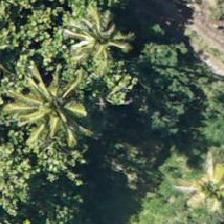coconut_tree: (4, 64, 94, 154), (59, 0, 149, 86), (166, 143, 223, 223)
